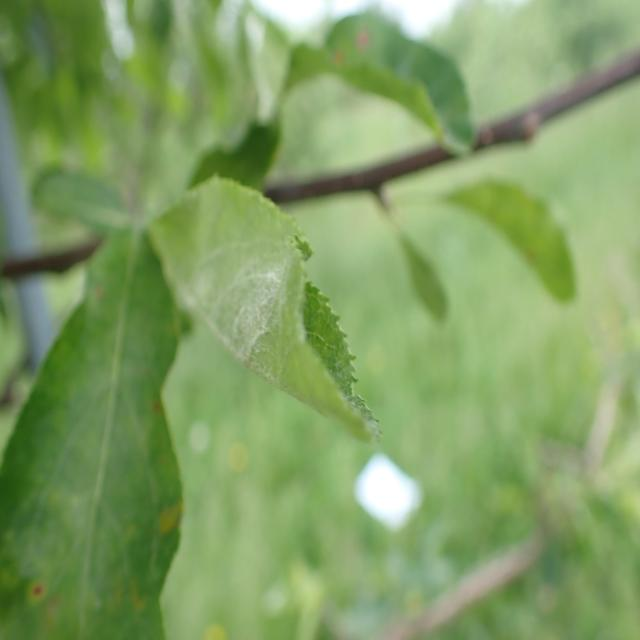Powdery_mildew: (140, 175, 376, 435)
